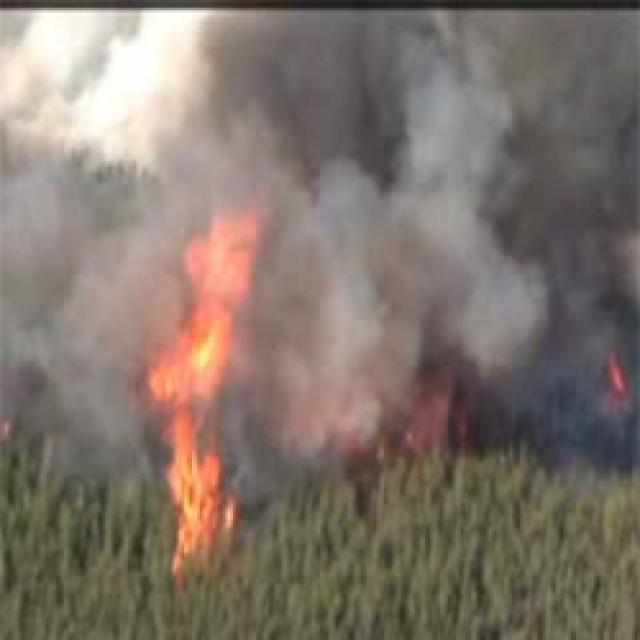Fire: (126, 174, 262, 592), (328, 348, 526, 456), (606, 326, 636, 412), (0, 405, 44, 448)
Smoke: (0, 0, 640, 466)
